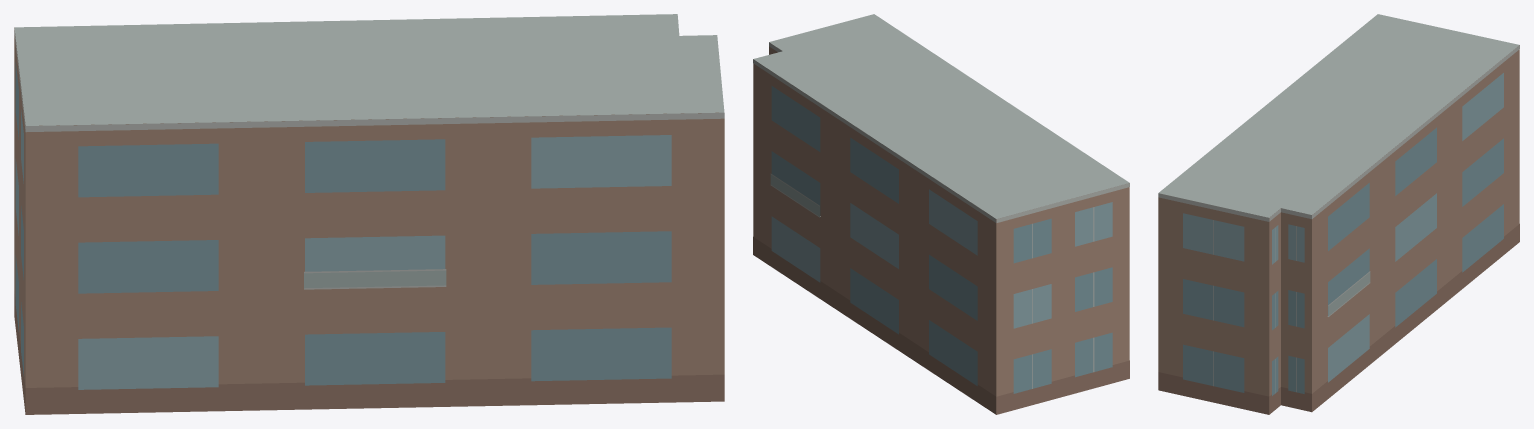
The model's file is survey-upis-32602872.glb.
3 views of the same model, side by side, from view 1: azimuth 30°, elevation 25°; view 2: azimuth 150°, elevation 25°; view 3: azimuth 270°, elevation 25° (orthographic). The views are drawn at different scales.
Visible parts, largest first — view 1: survey-upis-32602872.tmp; view 2: survey-upis-32602872.tmp; view 3: survey-upis-32602872.tmp.
Boxes of the visible parts, x1,y1,x2,y2 form: survey-upis-32602872.tmp: (14,14,724,414); survey-upis-32602872.tmp: (753,14,1129,414); survey-upis-32602872.tmp: (1158,14,1519,414).
Size of the model in its own units: 25.51 by 11.5 by 19.13.
